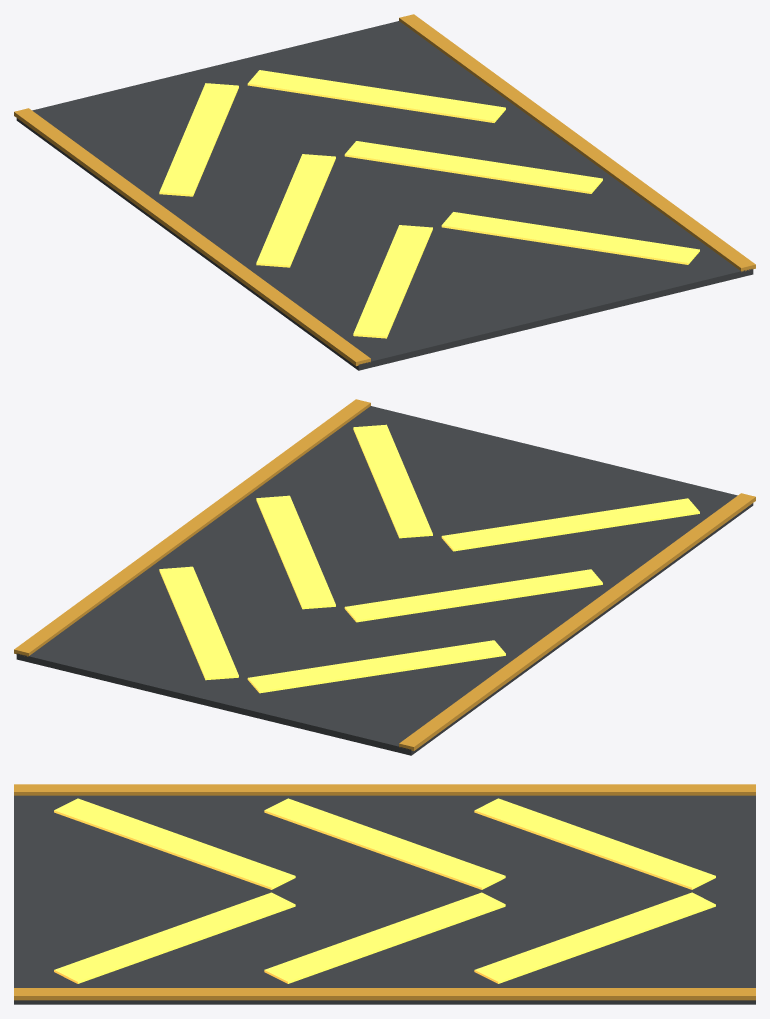
File: boost-pad.glb
3 renders of one model, top to bottom at view 1: azimuth 30°, elevation 25°; view 2: azimuth 150°, elevation 25°; view 3: azimuth 270°, elevation 25°, orthographic. The views are drawn at different scales.
Visible parts, largest first — view 1: boost; view 2: boost; view 3: boost.
Boxes of the visible parts, x1=… form: boost: x1=14, y1=14, x2=755, y2=370; boost: x1=14, y1=399, x2=755, y2=755; boost: x1=14, y1=784, x2=755, y2=1004.
Bounding box in the file's own units: 4.05 × 0.0898 × 6.
